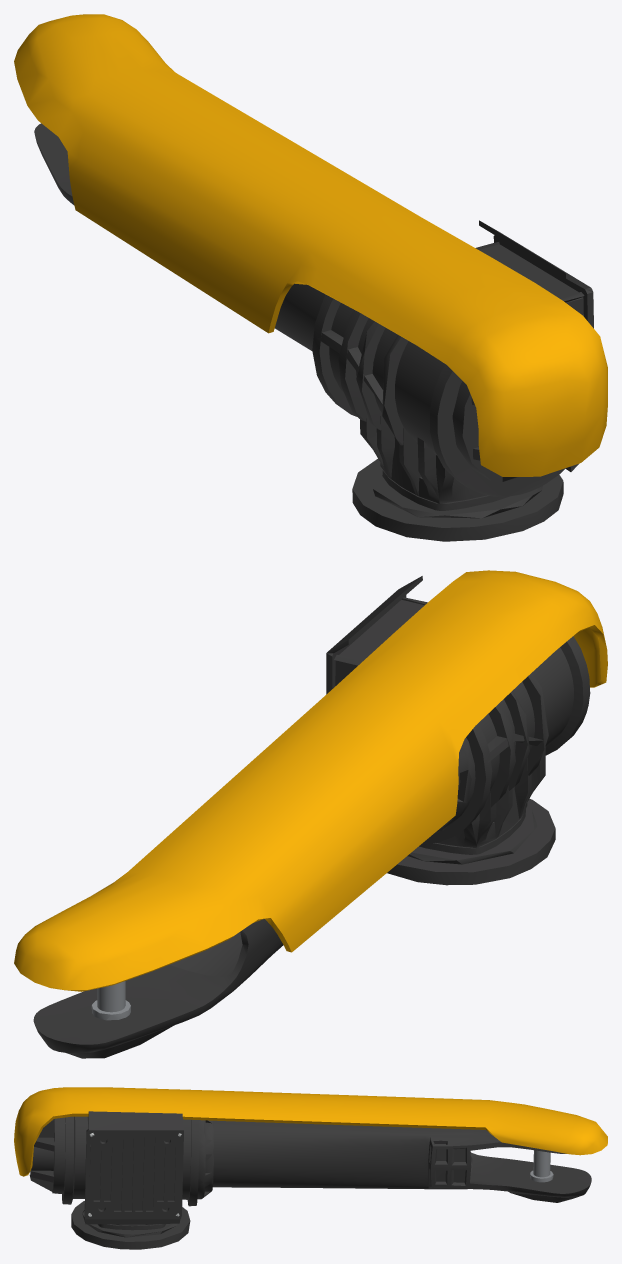
The model's file is rl_upper_leg.obj.
3 renders of one model, top to bottom at view 1: azimuth 30°, elevation 25°; view 2: azimuth 150°, elevation 25°; view 3: azimuth 270°, elevation 25°, orthographic. The views are drawn at different scales.
Parts seen in each view (by area): view 1: rl_upper_leg; view 2: rl_upper_leg; view 3: rl_upper_leg.
Boxes of the visible parts, box(x1,y1,x2,y2) form: rl_upper_leg: box(14, 14, 607, 541); rl_upper_leg: box(14, 570, 607, 1058); rl_upper_leg: box(14, 1087, 607, 1249).
Bounding box in the file's own units: 0.0744 × 0.082 × 0.3271.
